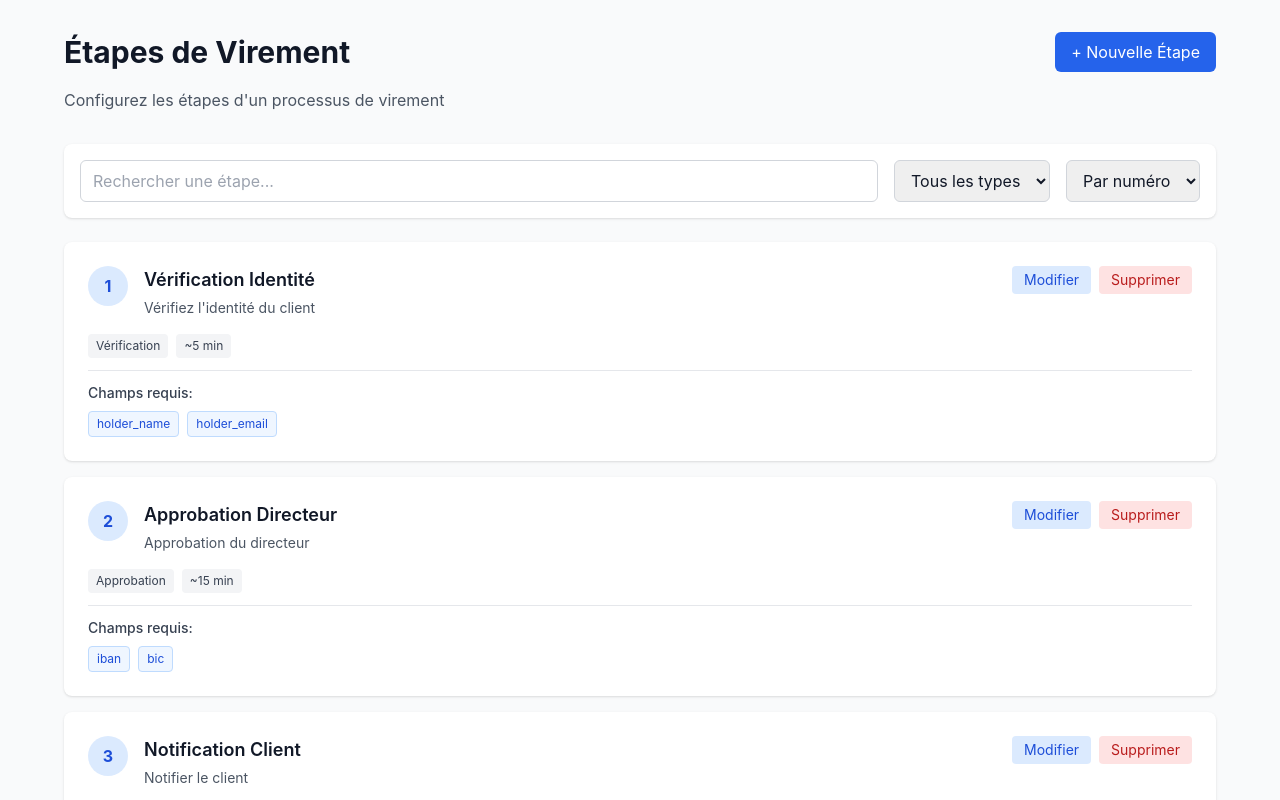
Test: TransferStepPage › Delete Confirmation › should show delete confirmation dialog
Click the button "Supprimer" in the row of "Vérification Identité".
click(1146, 280)  # box [1099, 266, 1192, 294]
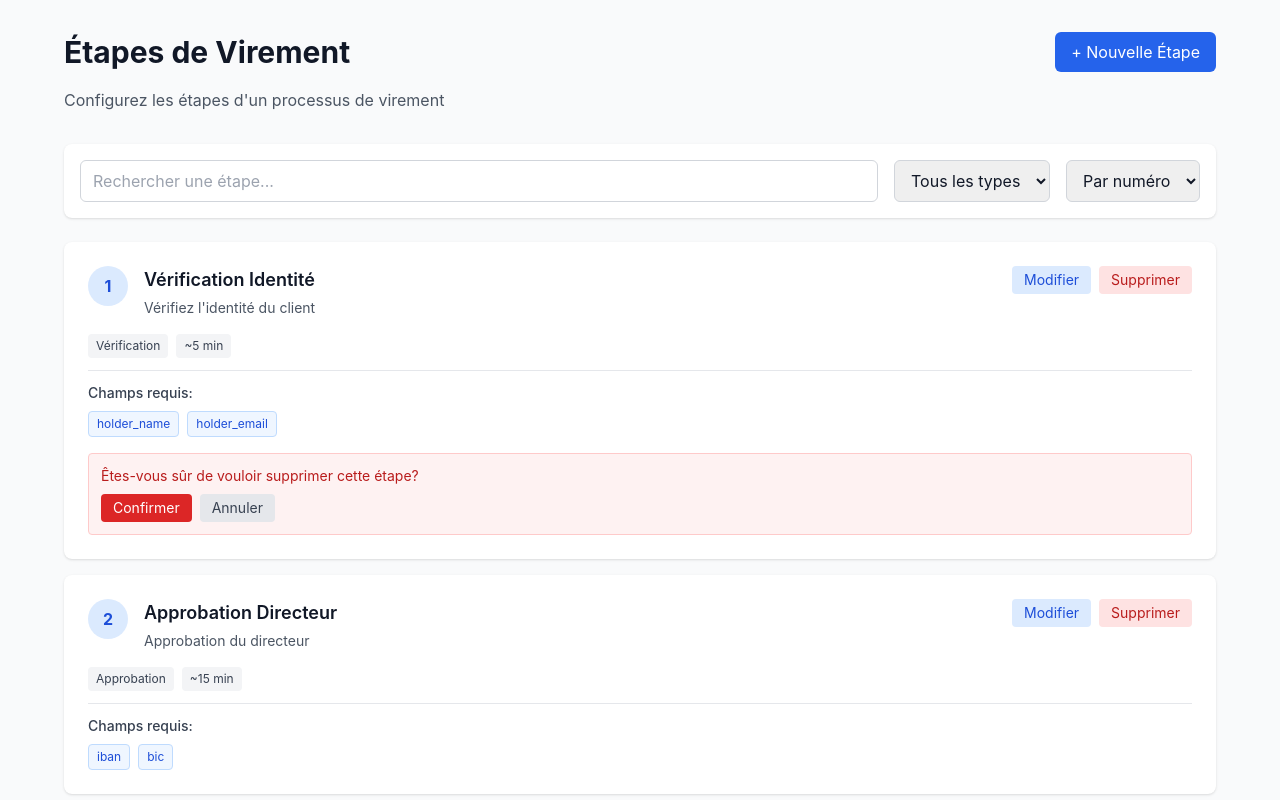
Check: the text "Êtes-vous sûr de vouloir supprimer cette étape?" is shown, box [101, 467, 419, 484]
